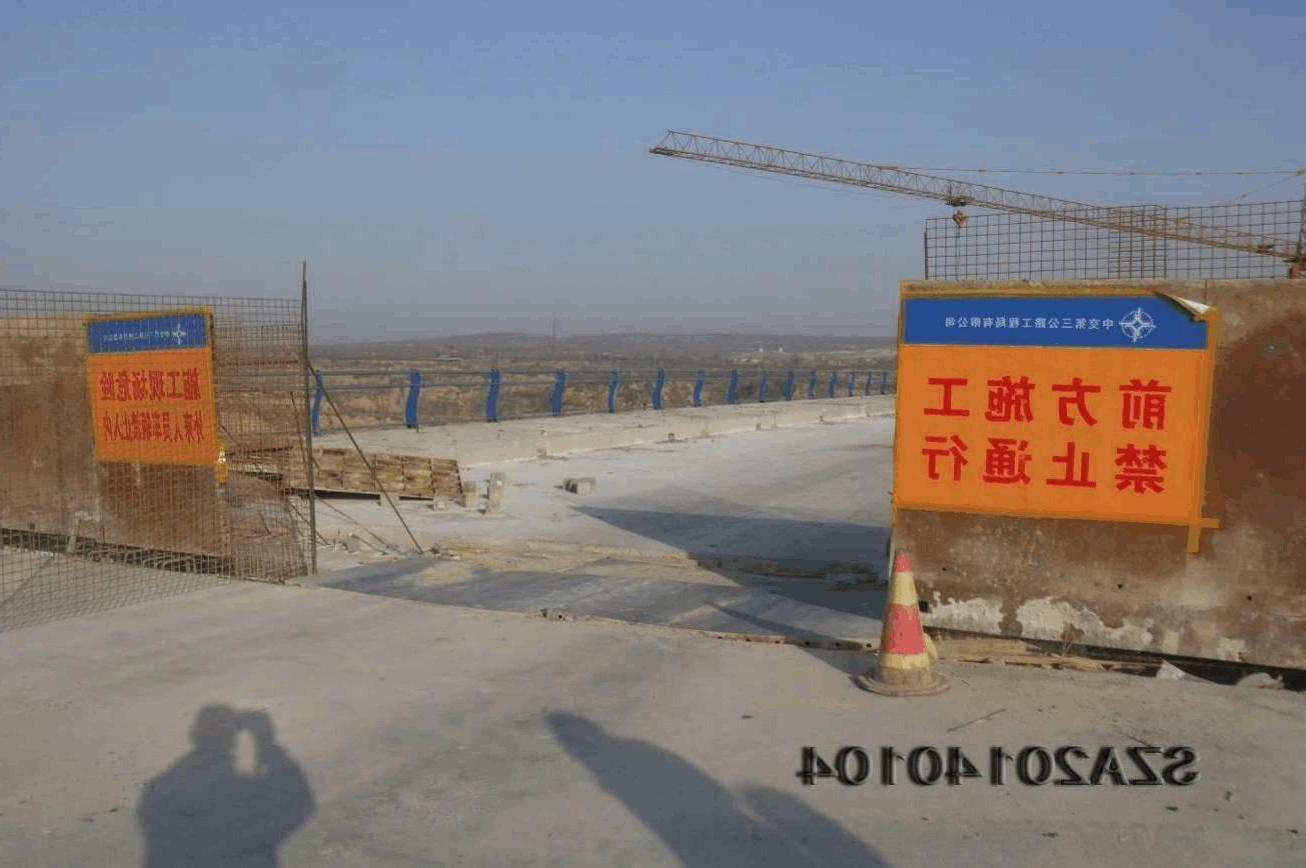sign: (898, 296, 1212, 526), (67, 312, 226, 464)
